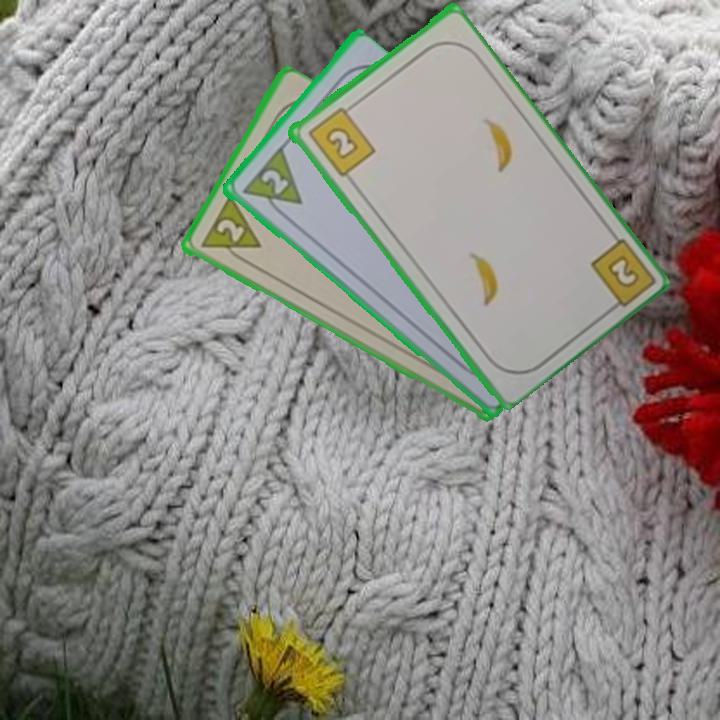2b: (303, 100, 378, 180), (603, 251, 642, 291)
2p: (196, 193, 264, 269), (256, 165, 291, 198)
